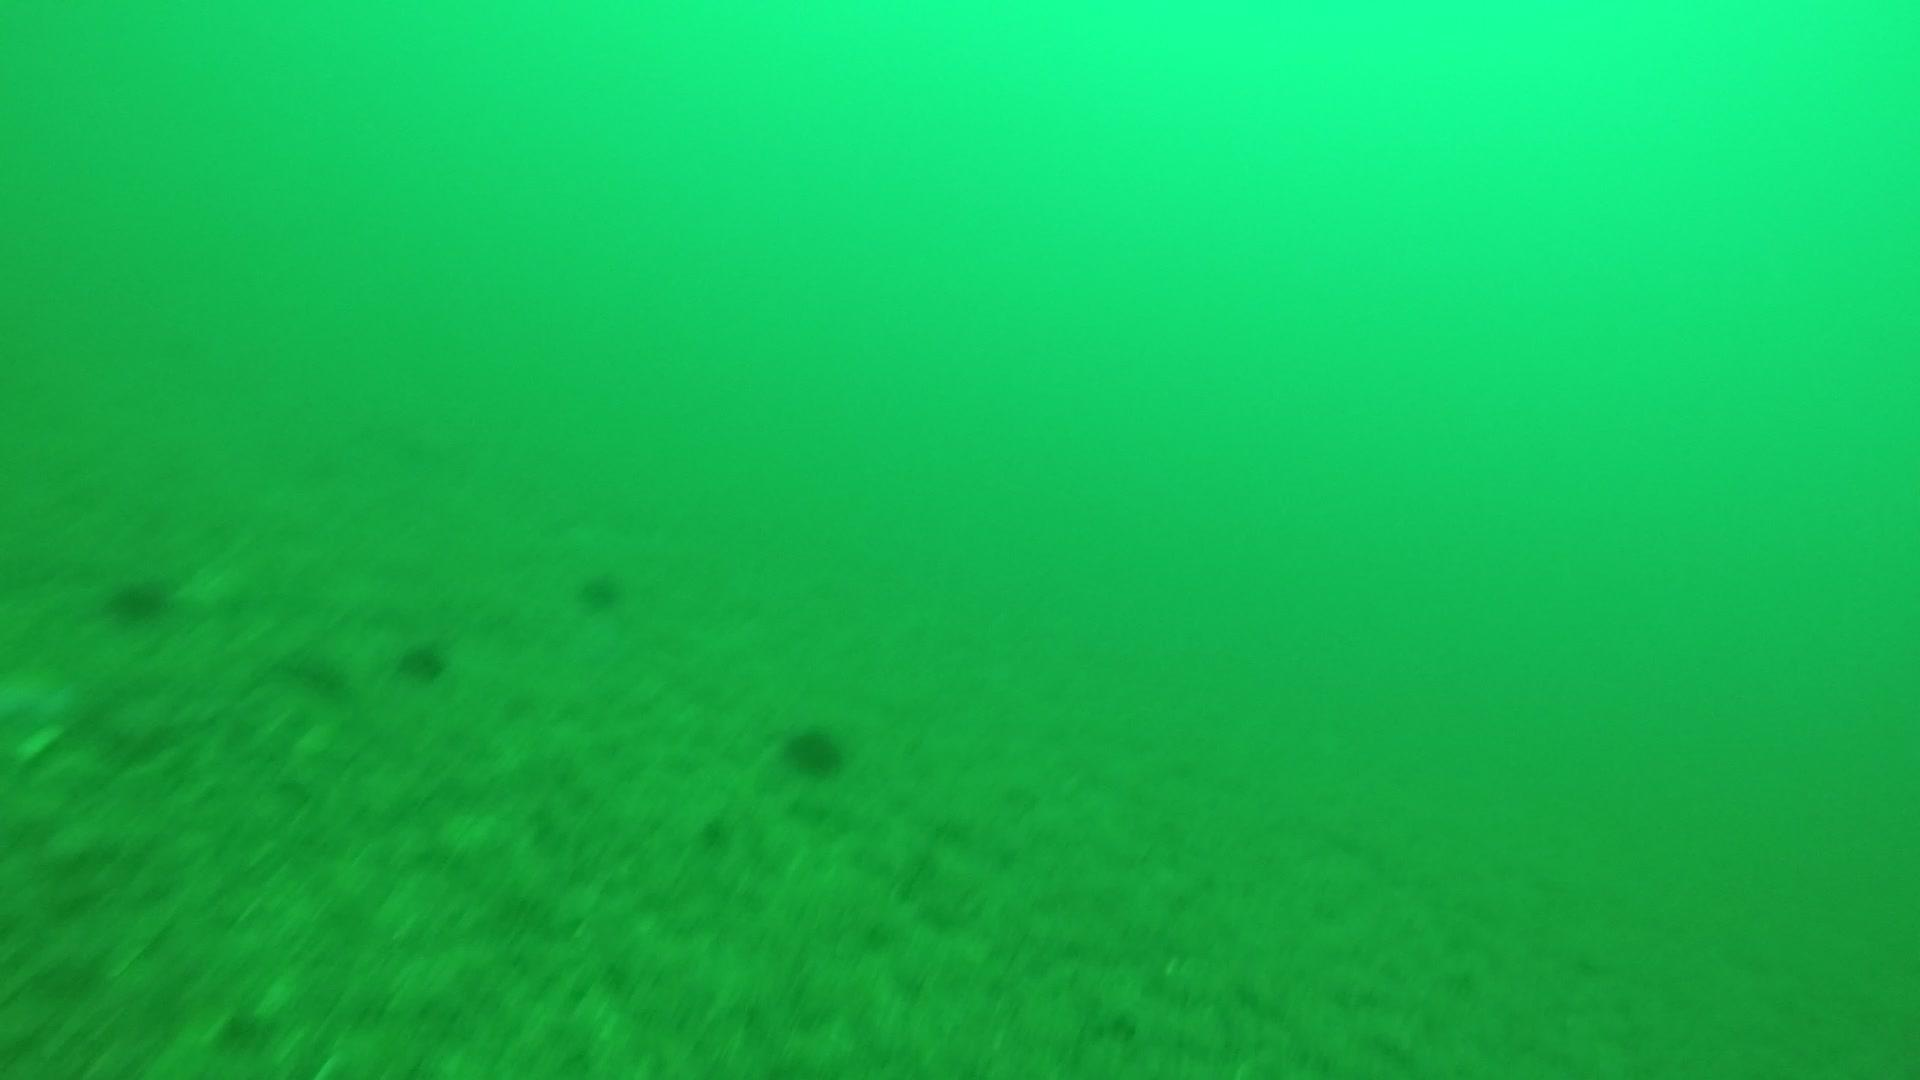echinus: (777, 717, 851, 781), (102, 568, 175, 628), (392, 633, 454, 687), (572, 563, 630, 615)
